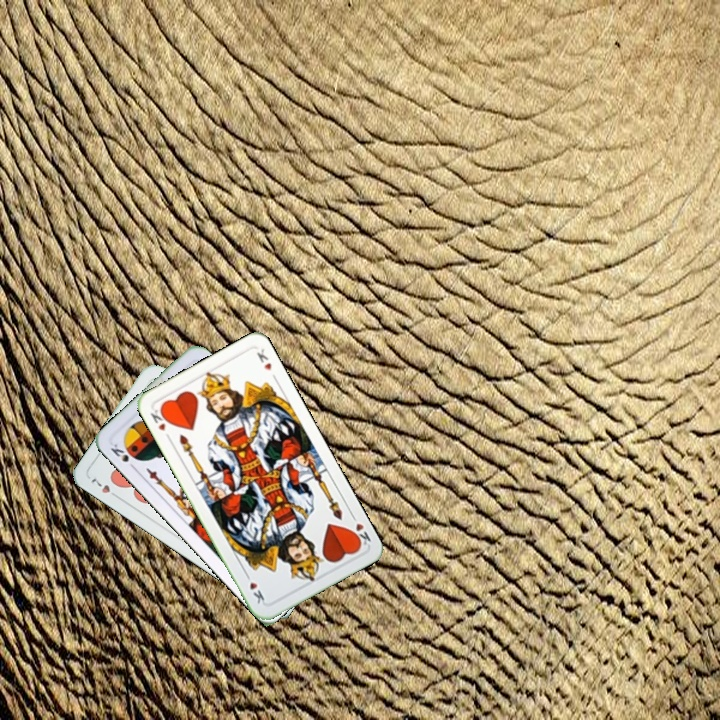H7: (87, 474, 122, 501)
HK: (345, 510, 373, 549), (146, 403, 173, 442)
SK: (106, 439, 139, 473)
